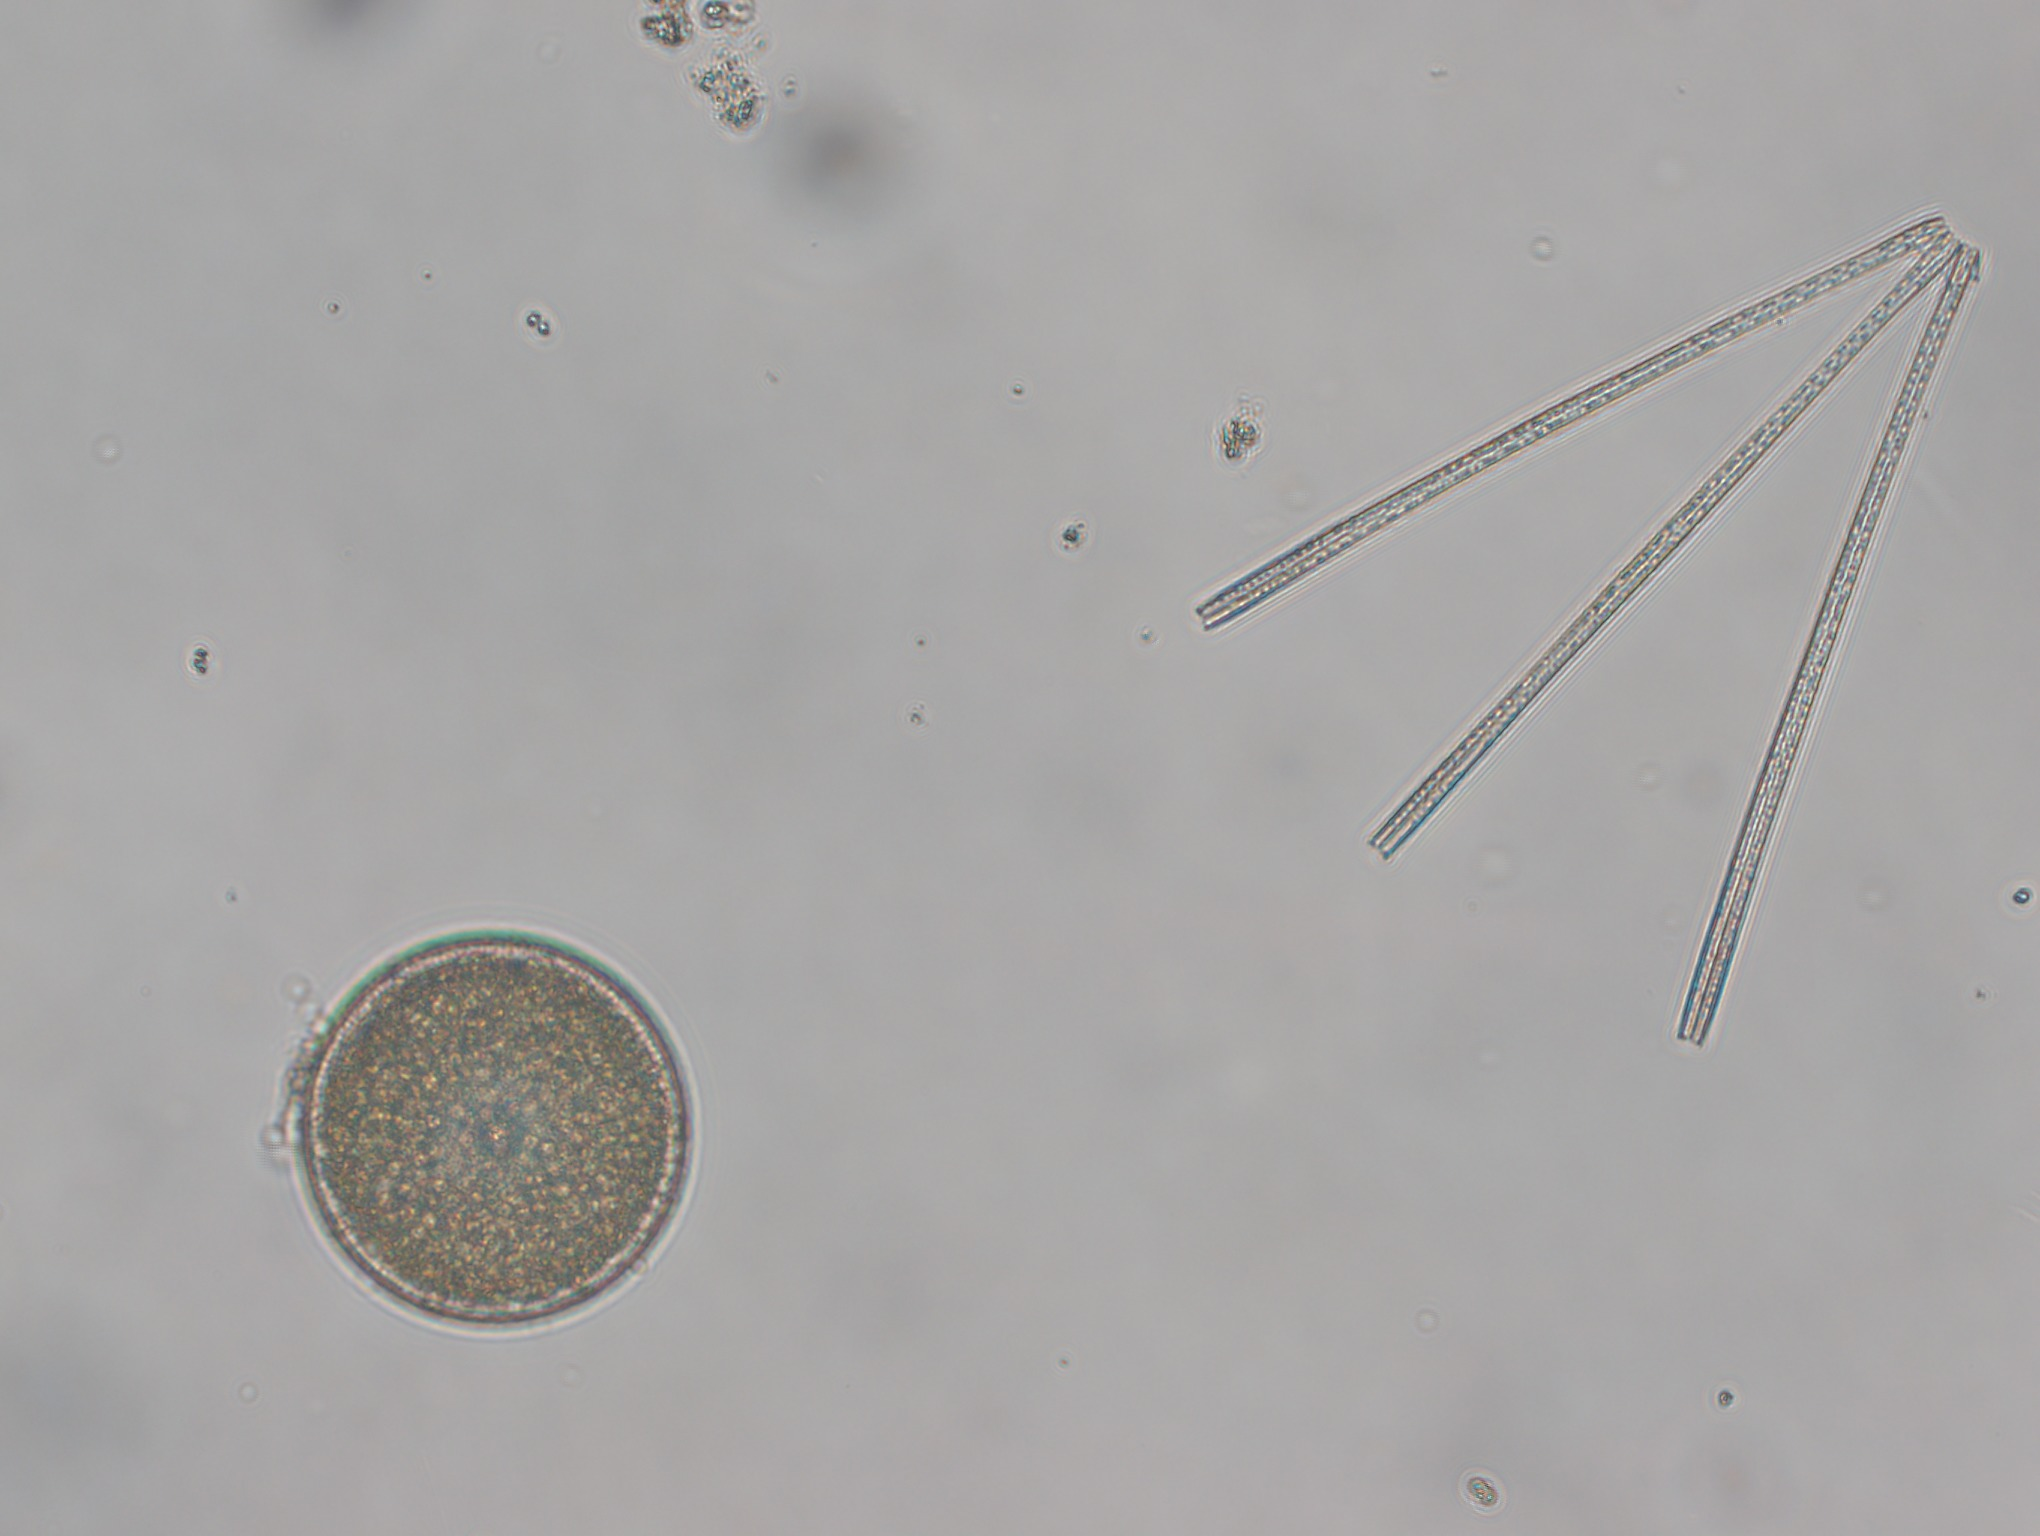coscinodiscus: (271, 920, 713, 1338)
thalassionema frauenfeldii: (1155, 136, 1992, 1047)
